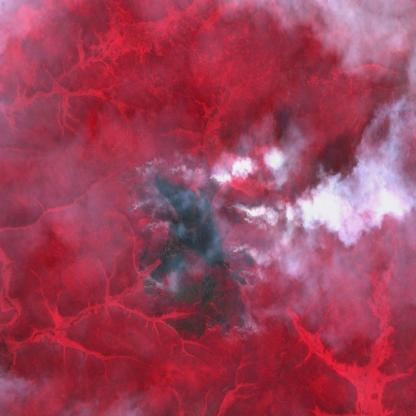fire: (125, 152, 270, 323)
